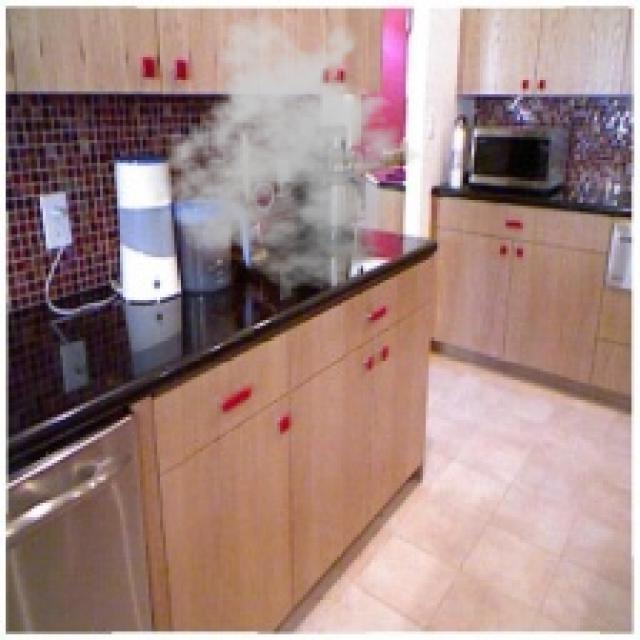Smoke: (154, 15, 437, 292)
